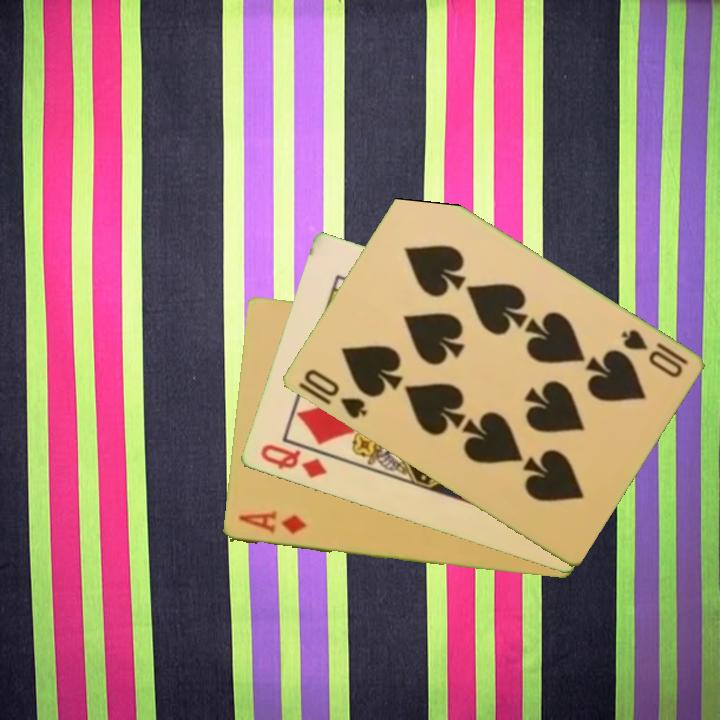10s: (617, 325, 691, 382), (299, 365, 370, 422)
Ad: (234, 509, 310, 538)
Qd: (256, 441, 329, 482)
